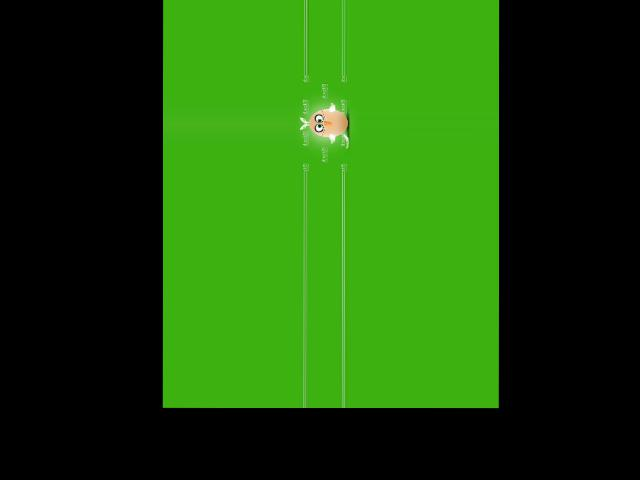egg: (309, 109, 348, 137)
